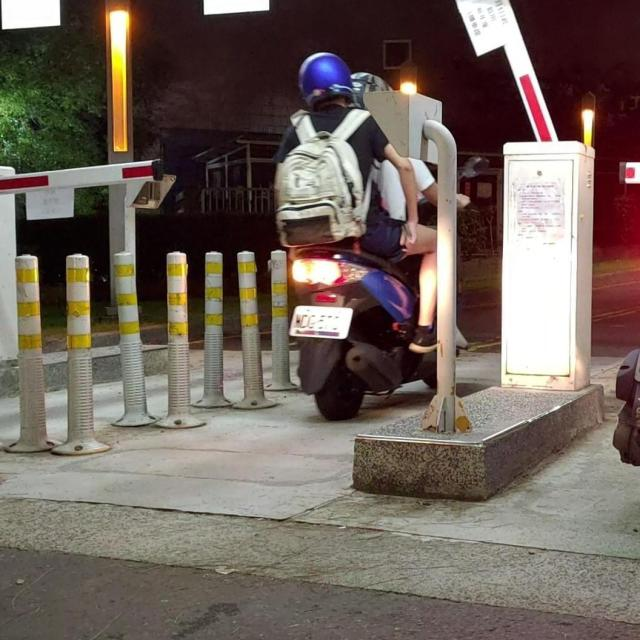W: (288, 304, 352, 339)
